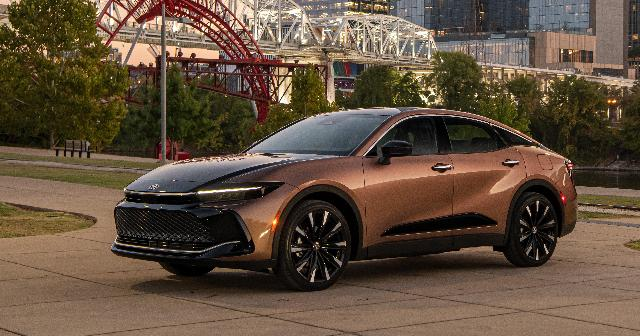toyota: (110, 106, 578, 292)
